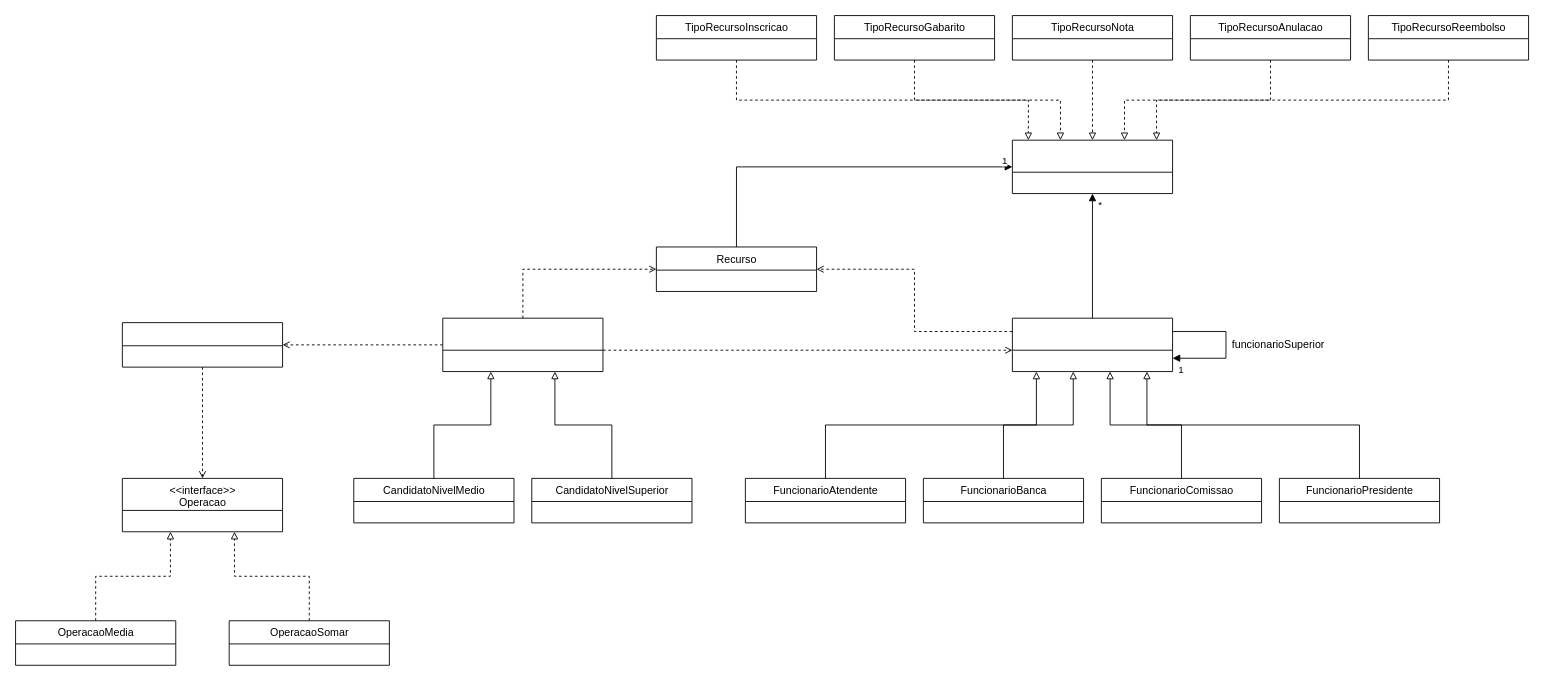
The diagram is 1544 pixels wide and 681 high, and some of its shapes have lost their labels. The shapes that lost their labels are listed below. From the top down, each one's centre as x and y in pixels, then its label:
At pixel 1092 166: "<<interface>> TipoRecurso".
At pixel 202 344: "Calculadora".
At pixel 522 344: "<<abstract>> Candidato".
At pixel 1092 344: "<<abstract>> Funcionario".
